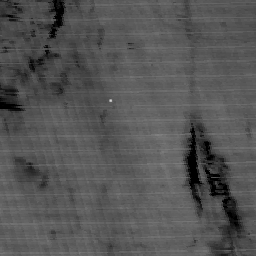Target: (106, 96, 113, 104)
